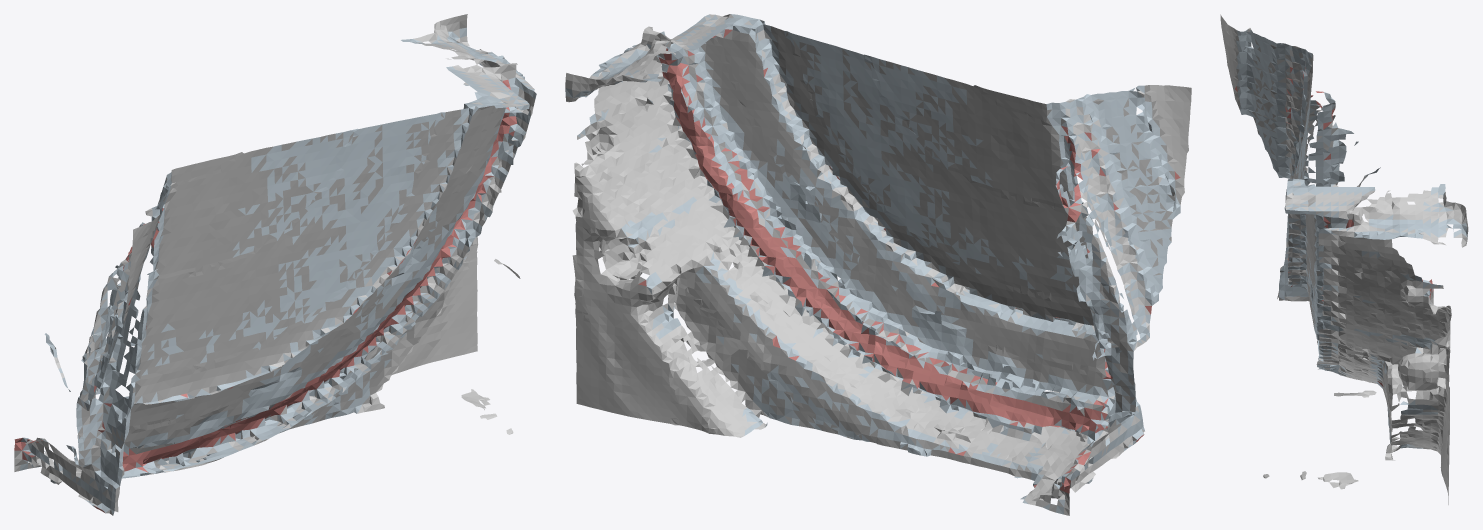
Rendered from R1-보존띠-1__nojudge_ALS_s0__after.glb.
3 renders of one model, left to right at view 1: azimuth 30°, elevation 25°; view 2: azimuth 150°, elevation 25°; view 3: azimuth 270°, elevation 25°, orthographic. The views are drawn at different scales.
Size of the model in its own units: 51.46 by 34.45 by 25.88.
